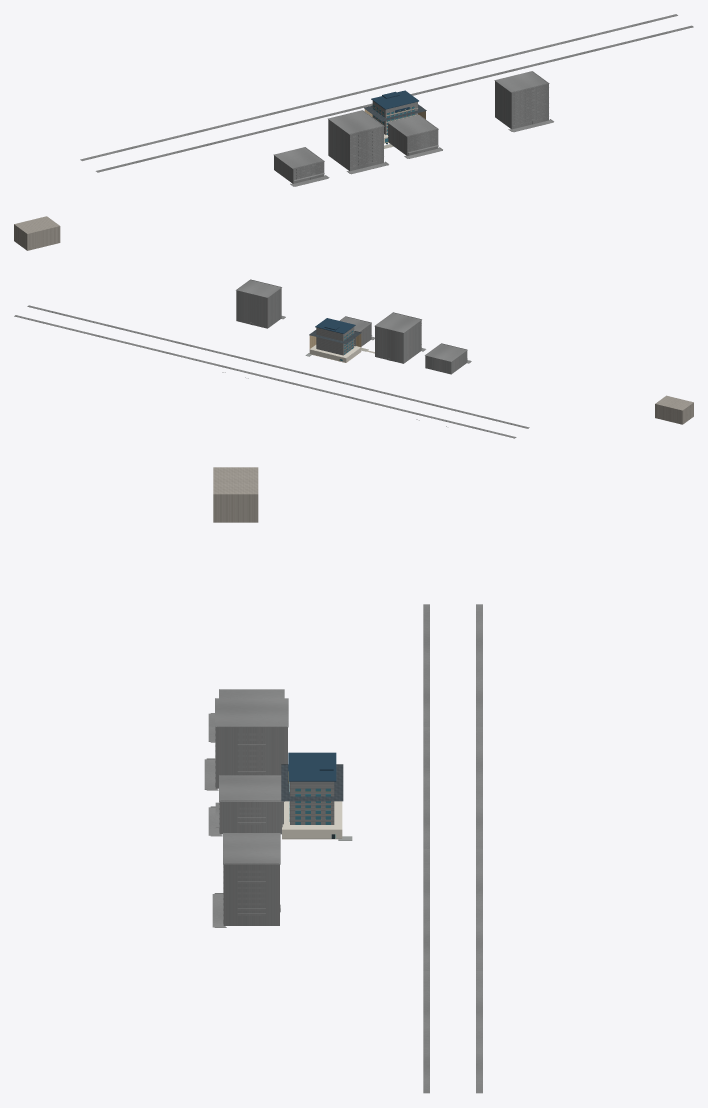
File: cell_1_-5_lod1.gltf
The picture shows the model from 3 angles, top to bottom: view 1: azimuth 30°, elevation 25°; view 2: azimuth 150°, elevation 25°; view 3: azimuth 270°, elevation 25°; orthographic projection. The views are drawn at different scales.
Visible parts, largest first — view 1: GIDI_VICTORIA_ISLAND_CBD_V2_MESH, MASS_YABA_004, HOTEL_TOWER_CROWN, HOTEL_TOWER_MAIN_MASS; view 2: GIDI_VICTORIA_ISLAND_CBD_V2_MESH, MASS_YABA_004, HOTEL_TOWER_MAIN_MASS, HOTEL_TOWER_CROWN; view 3: GIDI_VICTORIA_ISLAND_CBD_V2_MESH, MASS_YABA_004, HOTEL_TOWER_MAIN_MASS, HOTEL_TOWER_CROWN.
Part boxes in pixels (x1,y1,x2,y2): GIDI_VICTORIA_ISLAND_CBD_V2_MESH: (80,14,693,186); MASS_YABA_004: (14,216,60,250); HOTEL_TOWER_CROWN: (371,90,418,109); HOTEL_TOWER_MAIN_MASS: (372,101,417,134); GIDI_VICTORIA_ISLAND_CBD_V2_MESH: (14,279,529,438); MASS_YABA_004: (655,395,693,424); HOTEL_TOWER_MAIN_MASS: (316,327,354,355); HOTEL_TOWER_CROWN: (315,318,355,333); GIDI_VICTORIA_ISLAND_CBD_V2_MESH: (204,604,482,1093); MASS_YABA_004: (213,467,258,522); HOTEL_TOWER_MAIN_MASS: (290,781,334,824); HOTEL_TOWER_CROWN: (288,752,336,781).
Bounding box in the file's own units: 703 × 34.55 × 148.
Materials: 25 (4 with a texture image).
